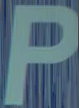Parking: (6, 3, 75, 102)
